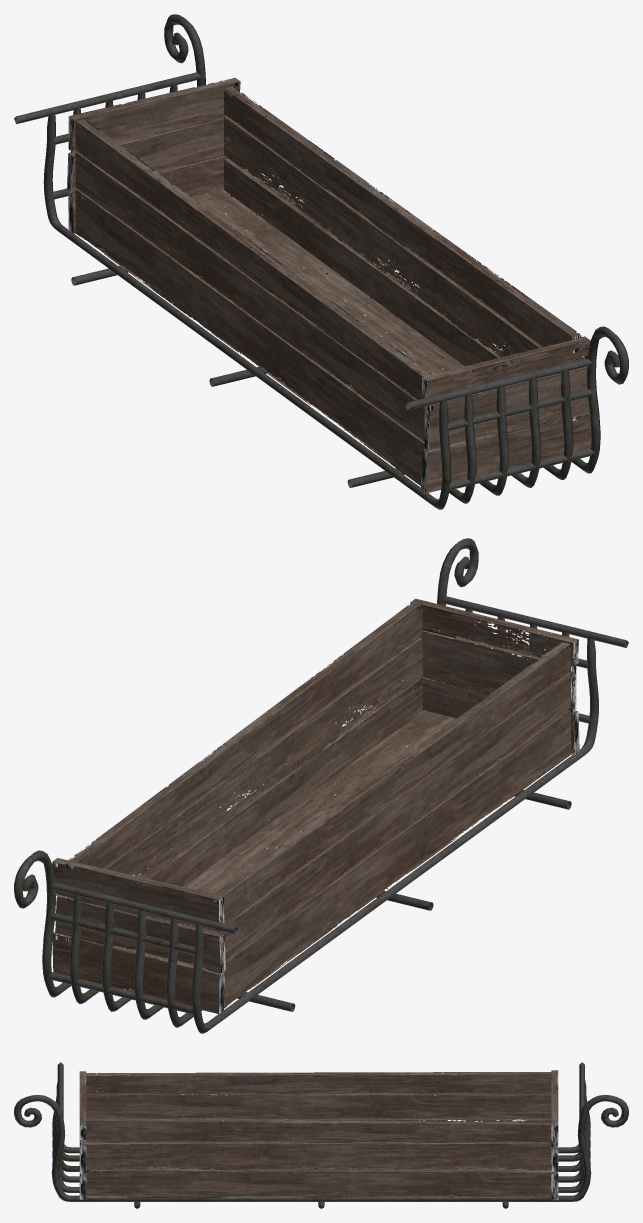
Rendered from SM_flowerpot_01.fbx.
The picture shows the model from 3 angles, top to bottom: view 1: azimuth 30°, elevation 25°; view 2: azimuth 150°, elevation 25°; view 3: azimuth 270°, elevation 25°; orthographic projection. The views are drawn at different scales.
Visible parts, largest first — view 1: SM_flowerpot_01_LOD0; view 2: SM_flowerpot_01_LOD0; view 3: SM_flowerpot_01_LOD0.
Part boxes in pixels (<box>): SM_flowerpot_01_LOD0: <box>14,14,628,509</box>; SM_flowerpot_01_LOD0: <box>14,538,628,1033</box>; SM_flowerpot_01_LOD0: <box>14,1062,628,1208</box>.
Size of the model in its own units: 67.31 by 267 by 53.86.
Materials: 3 (3 with a texture image).
